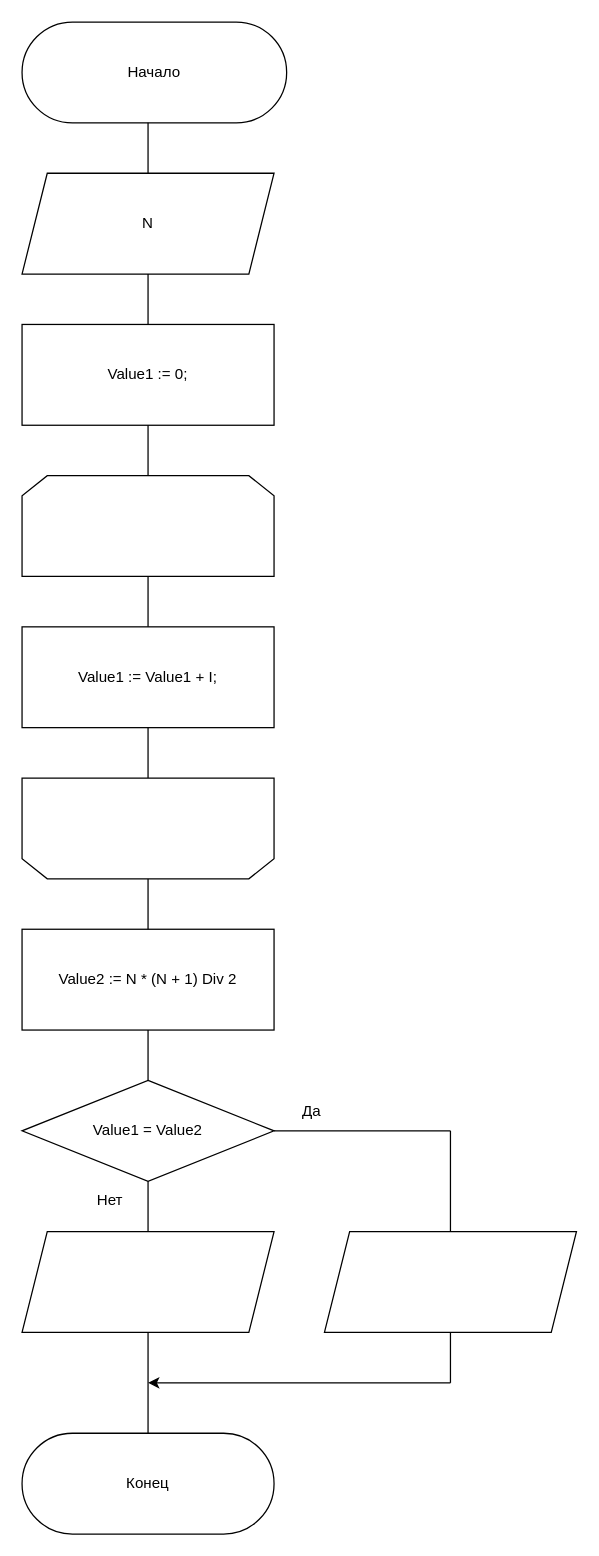
The diagram is 599 pixels wide and 1556 high, and some of its shapes have lost their labels. The shapes that lost their labels are listed below. From the top down, each one's box as (x1, y1, x2, y2) in pixels, then its label:
(21, 474, 274, 576): A1 For I := 1 To N Do
(21, 777, 274, 879): I A1
(21, 1230, 274, 1332): Формула не работает!
(323, 1230, 576, 1332): Формула работает!
